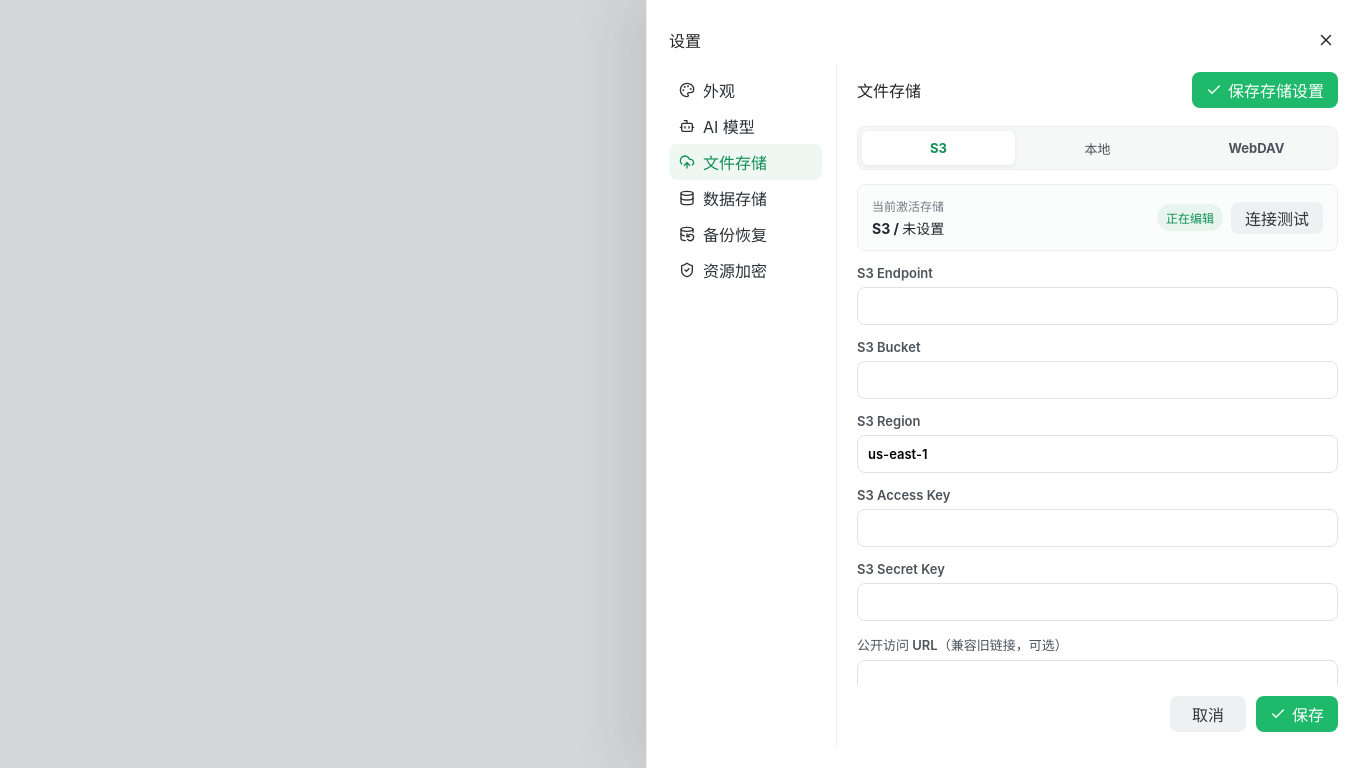
Test: 备份任务执行中展示 loading 状态
Click the button "备份恢复": (746, 234) [669,216,822,252]
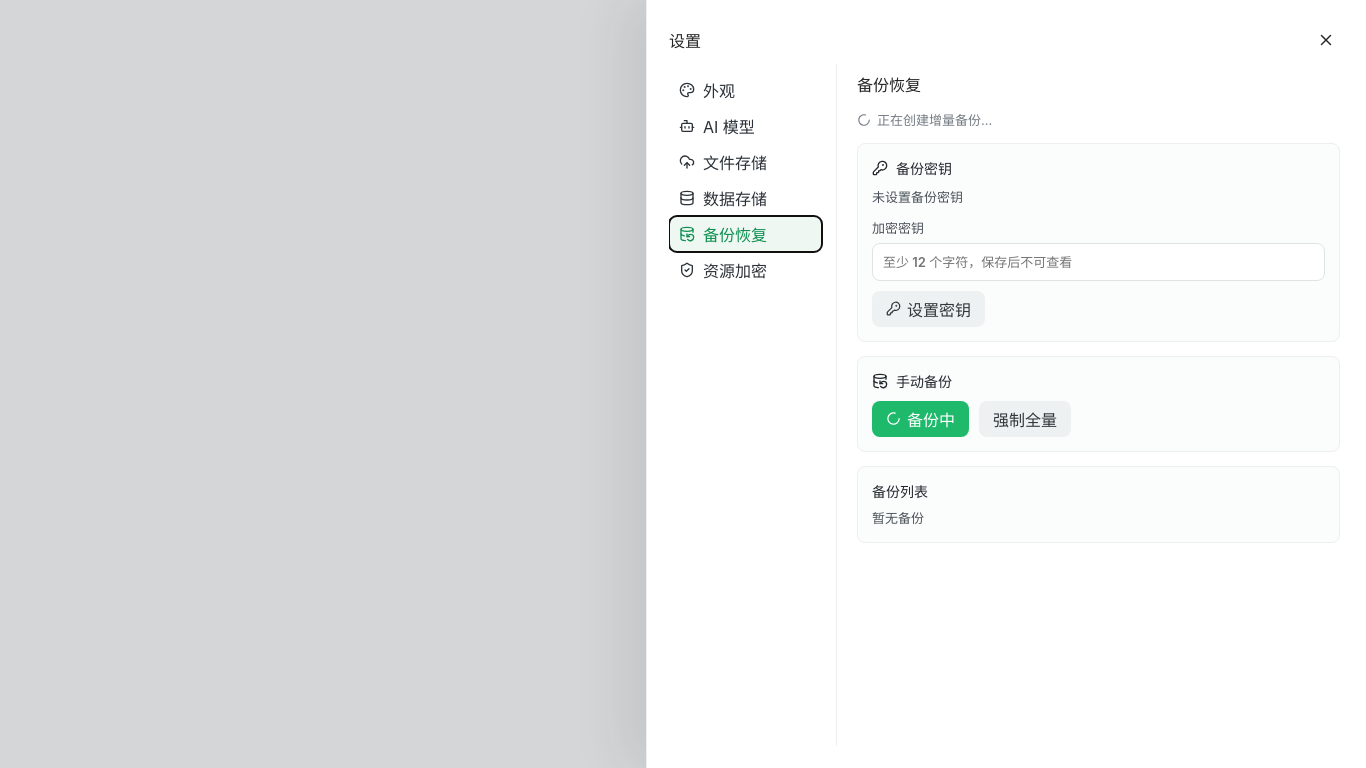
Expected: the text "正在创建增量备份..." is shown, [857,112,992,128]
Expected: the button "备份中" is disabled, [872,400,969,436]
